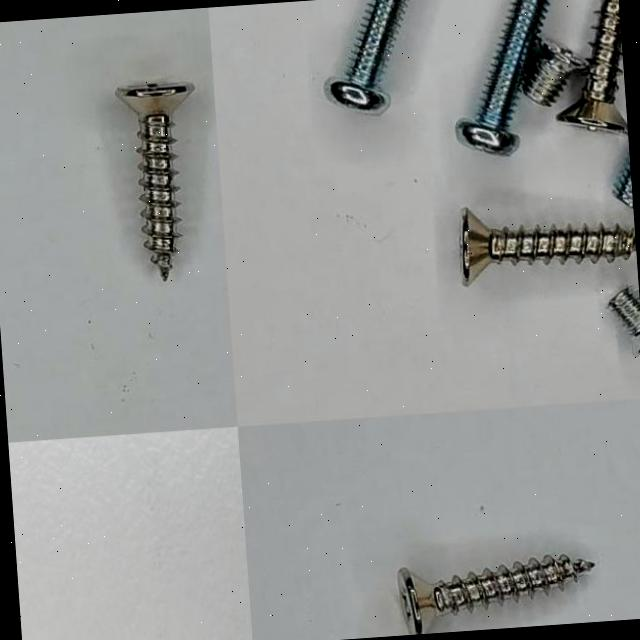Screw: (116, 81, 196, 281), (398, 554, 595, 635), (456, 0, 551, 155), (460, 209, 636, 285), (557, 0, 628, 134), (325, 0, 406, 113), (523, 41, 590, 106), (609, 287, 640, 354)
